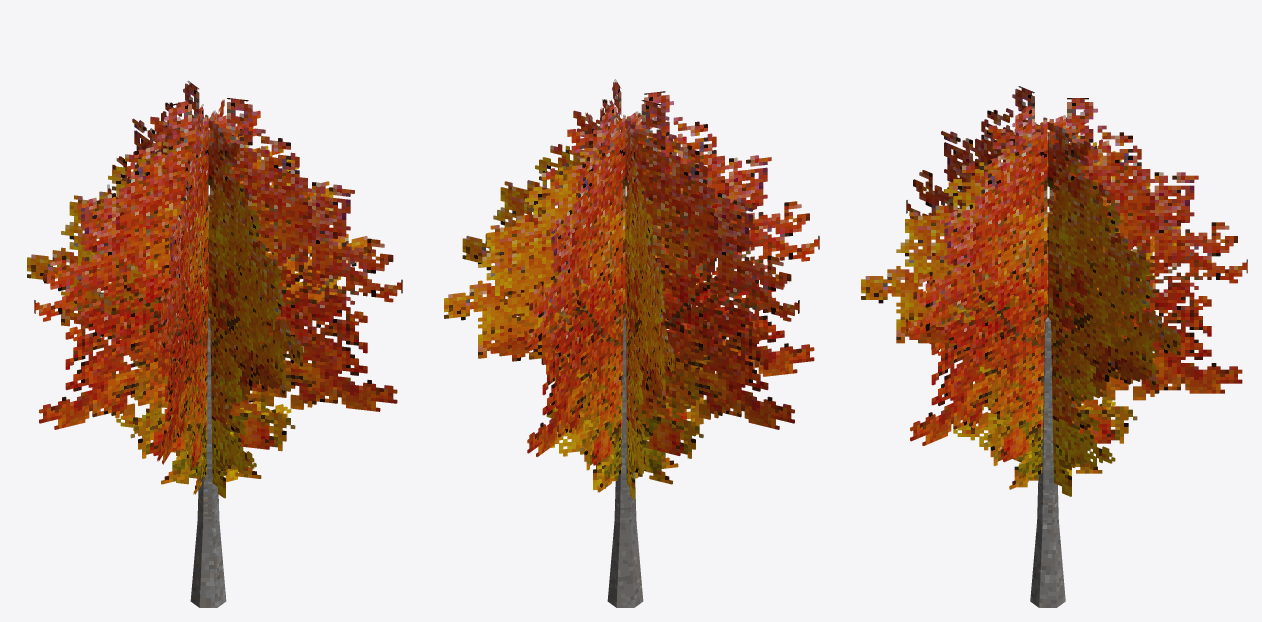
The model's file is tree31.glb.
3 renders of one model, left to right at view 1: azimuth 30°, elevation 25°; view 2: azimuth 150°, elevation 25°; view 3: azimuth 270°, elevation 25°, orthographic.
Parts seen in each view (by area): view 1: tree31; view 2: tree31; view 3: tree31.
Boxes of the visible parts, x1,y1,x2,y2 form: tree31: [27, 81, 402, 607]; tree31: [444, 79, 819, 607]; tree31: [861, 86, 1247, 607].
Bounding box in the file's own units: 5.76 × 8 × 5.76.
1 material, 1 textured.
